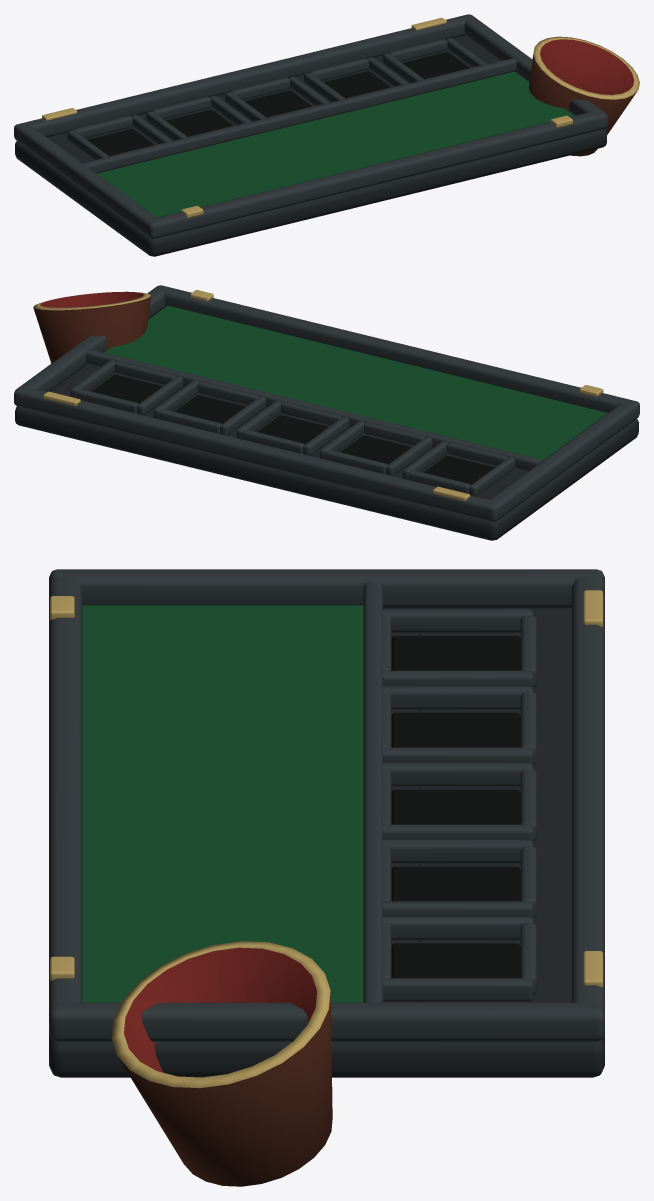
Rendered from yacht-case-v1.glb.
3 views of the same model, one above another, from view 1: azimuth 30°, elevation 25°; view 2: azimuth 150°, elevation 25°; view 3: azimuth 270°, elevation 25° (orthographic). The views are drawn at different scales.
Visible parts, largest first — view 1: YachtCaseWithHollowCup; view 2: YachtCaseWithHollowCup; view 3: YachtCaseWithHollowCup.
Part boxes in pixels (<box>): YachtCaseWithHollowCup: <box>14,14,639,256</box>; YachtCaseWithHollowCup: <box>14,285,639,540</box>; YachtCaseWithHollowCup: <box>49,569,604,1186</box>.
Bounding box in the file's own units: 17.48 × 3.07 × 8.
